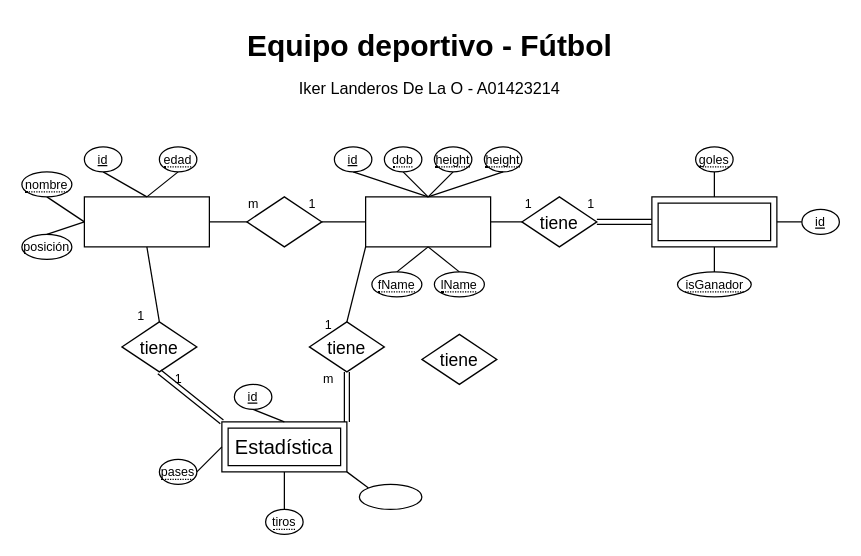
The diagram is 861 pixels wide and 556 high, and some of its shapes have lost their labels. Here are the shapes that lost their labels. From the top down, the box of each, then its label:
(83, 196, 209, 247): Jugador
(364, 196, 491, 247): Atleta
(651, 196, 777, 247): Resultado
(358, 483, 422, 509): posesión
